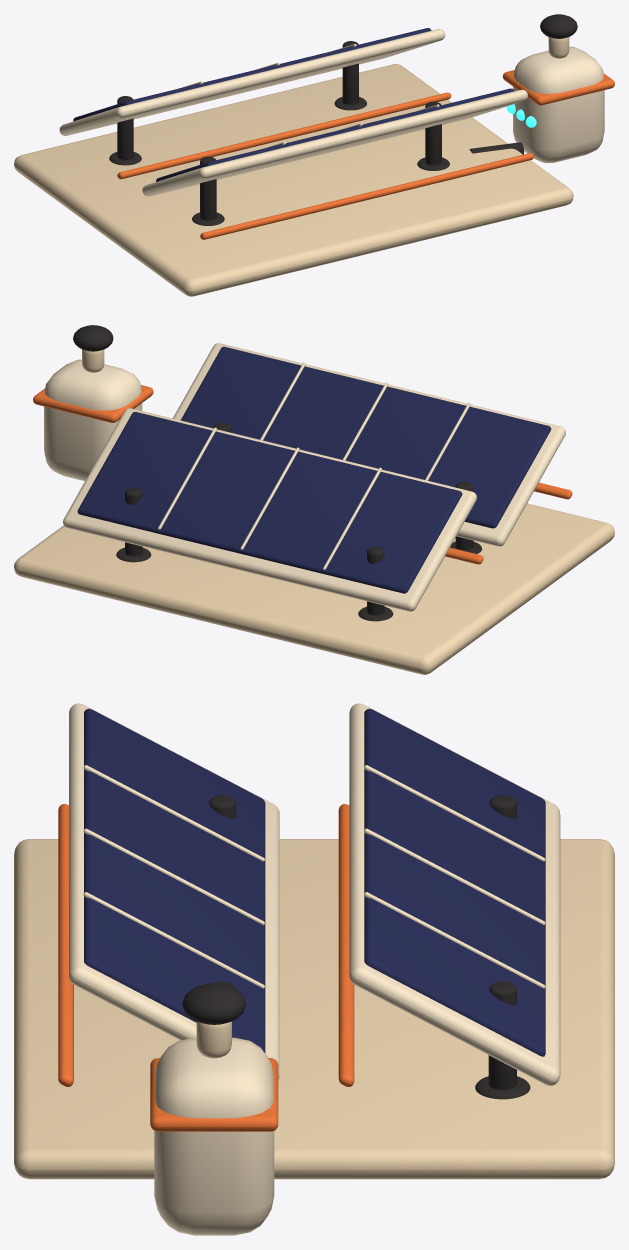
File: solar.glb
3 renders of one model, top to bottom at view 1: azimuth 30°, elevation 25°; view 2: azimuth 150°, elevation 25°; view 3: azimuth 270°, elevation 25°, orthographic. The views are drawn at different scales.
Visible parts, largest first — view 1: Cube, Cube.015, Cube.001, Cube.008, Cube.007, Cube.014, Cube.009, Cube.002, Cube.016, Cylinder.004, Cylinder, Sphere (+3 smaller); view 2: Cube.009, Cube, Cube.002, Cube.008, Cube.015, Cube.001, Cube.016, Sphere; view 3: Cube, Cube.009, Cube.002, Cube.015, Cube.008, Cube.001, Cube.014, Cube.007, Cube.016, Sphere, Cylinder.006, Cylinder.008 (+7 smaller).
Boxes of the visible parts, bbox=[...] form: Cube: bbox=[14, 64, 573, 296]; Cube.015: bbox=[513, 46, 604, 163]; Cube.001: bbox=[142, 89, 527, 196]; Cube.008: bbox=[59, 29, 445, 135]; Cube.007: bbox=[200, 153, 533, 239]; Cube.014: bbox=[117, 92, 451, 179]; Cube.009: bbox=[73, 28, 431, 121]; Cube.002: bbox=[156, 88, 513, 181]; Cube.016: bbox=[502, 70, 614, 105]; Cylinder.004: bbox=[117, 96, 133, 159]; Cylinder: bbox=[200, 156, 216, 220]; Sphere: bbox=[540, 14, 577, 38]; Cube.009: bbox=[77, 412, 462, 593]; Cube: bbox=[14, 503, 614, 674]; Cube.002: bbox=[181, 346, 551, 528]; Cube.008: bbox=[63, 408, 476, 611]; Cube.015: bbox=[44, 359, 142, 481]; Cube.001: bbox=[172, 343, 565, 546]; Cube.016: bbox=[33, 385, 153, 422]; Sphere: bbox=[73, 325, 113, 351]; Cube: bbox=[14, 839, 614, 1179]; Cube.009: bbox=[364, 708, 545, 1056]; Cube.002: bbox=[84, 708, 265, 1052]; Cube.015: bbox=[154, 1037, 274, 1235]; Cube.008: bbox=[349, 703, 560, 1085]; Cube.001: bbox=[69, 703, 279, 1079]; Cube.014: bbox=[338, 804, 354, 1086]; Cube.007: bbox=[58, 804, 73, 1086]; Cube.016: bbox=[150, 1058, 278, 1131]; Sphere: bbox=[182, 983, 246, 1024]; Cylinder.006: bbox=[488, 981, 516, 1089]; Cylinder.008: bbox=[196, 1021, 231, 1058].
Bounding box in the file's own units: 2.29 × 0.634 × 1.5.
